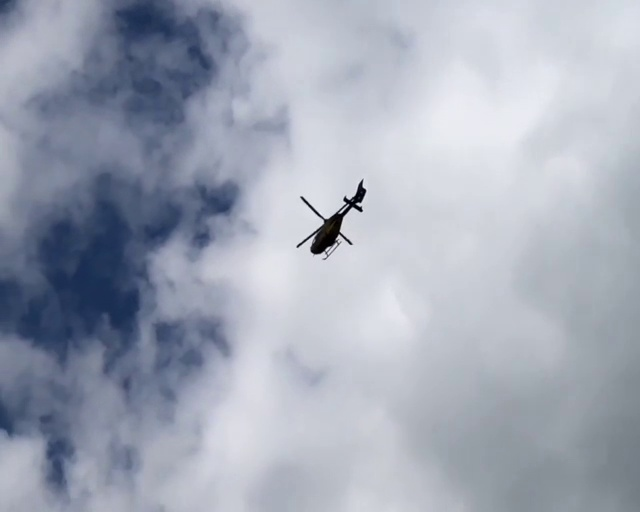HELICOPTER: (296, 178, 368, 260)
